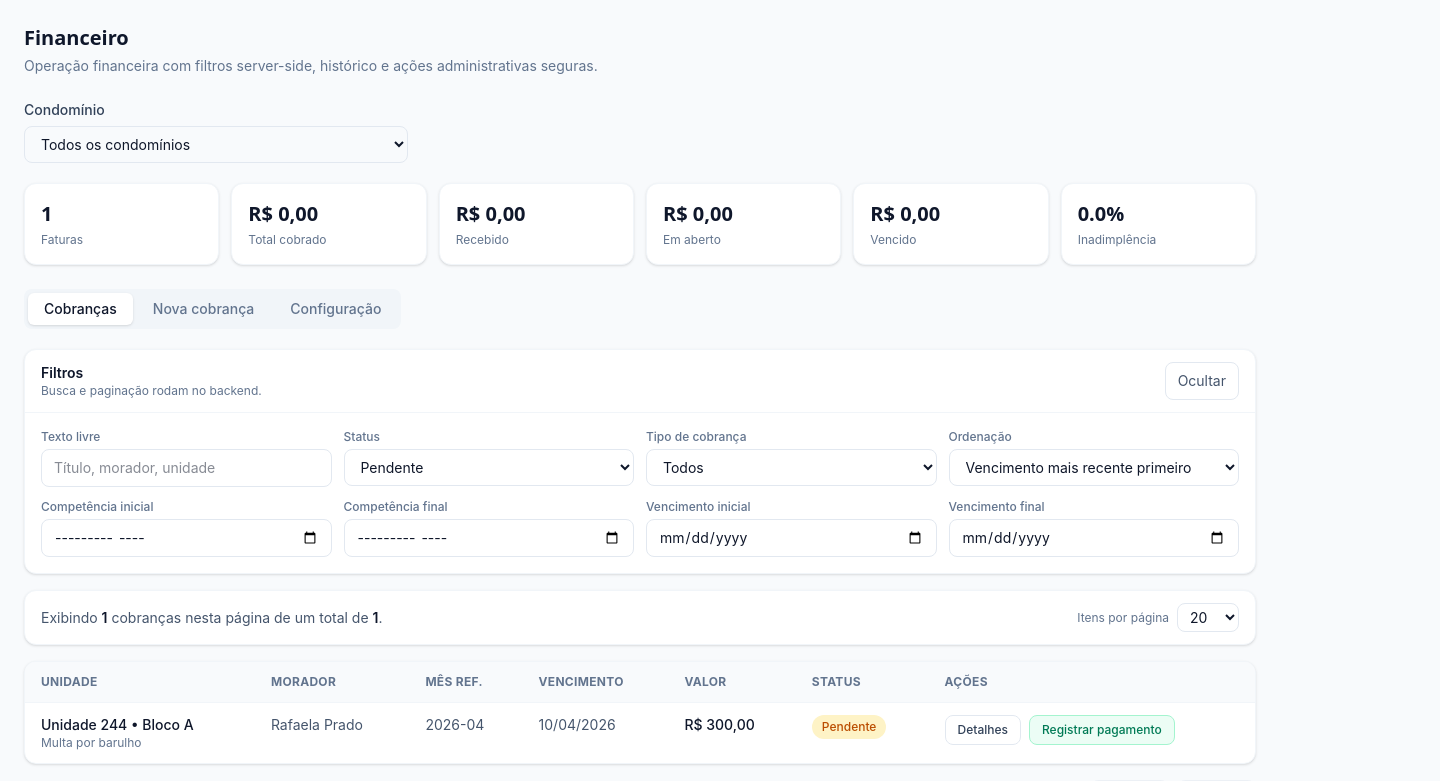
Test: Financial page › mantém filtros na query e abre o detalhe com estado sem gateway externo
Expected: the button "Ocultar" is shown, [1165,362,1239,400]
Expected: the text "Multa por barulho" is shown, [41,735,142,750]
Click the button "Detalhes": [983, 730] box [945,715,1021,745]
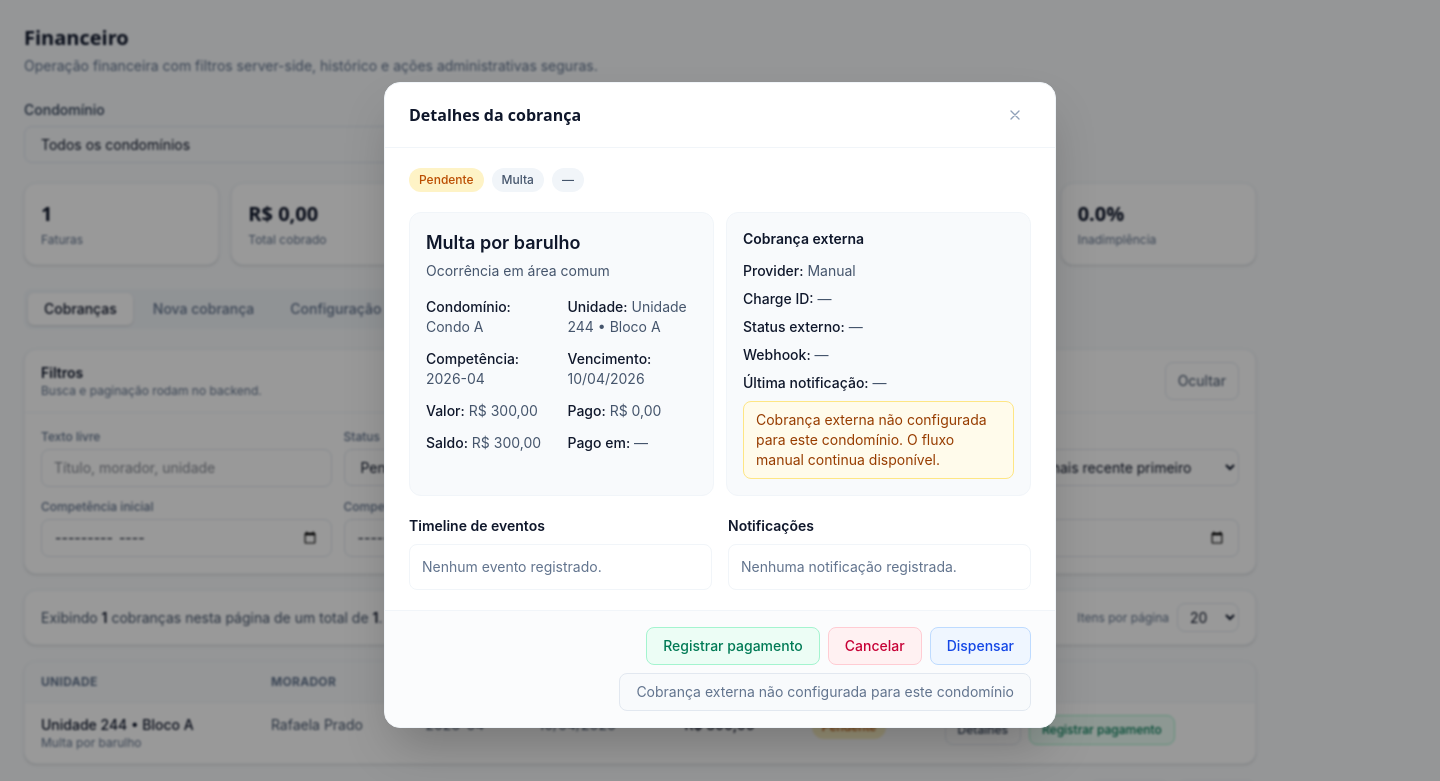
Result: the text "Cobrança externa não configurada para este condomínio" is shown at [756,411,987,468]
